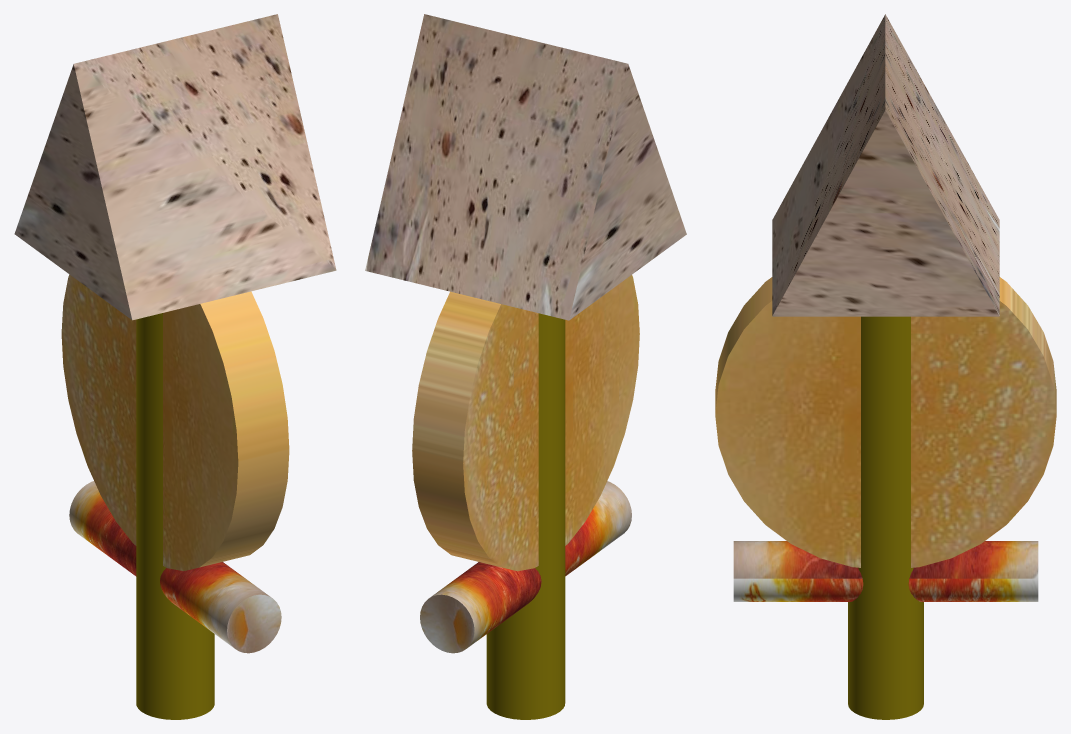
Rendered from Oden.fbx.
3 renders of one model, left to right at view 1: azimuth 30°, elevation 25°; view 2: azimuth 150°, elevation 25°; view 3: azimuth 270°, elevation 25°, orthographic. The views are drawn at different scales.
Visible parts, largest first — view 1: pCube3; view 2: pCube3; view 3: pCube3.
Boxes of the visible parts, x1,y1,x2,y2 form: pCube3: [14, 14, 336, 719]; pCube3: [365, 14, 686, 719]; pCube3: [715, 14, 1056, 719].
Size of the model in its own units: 4 by 12.44 by 6.
4 materials, 3 textured.
